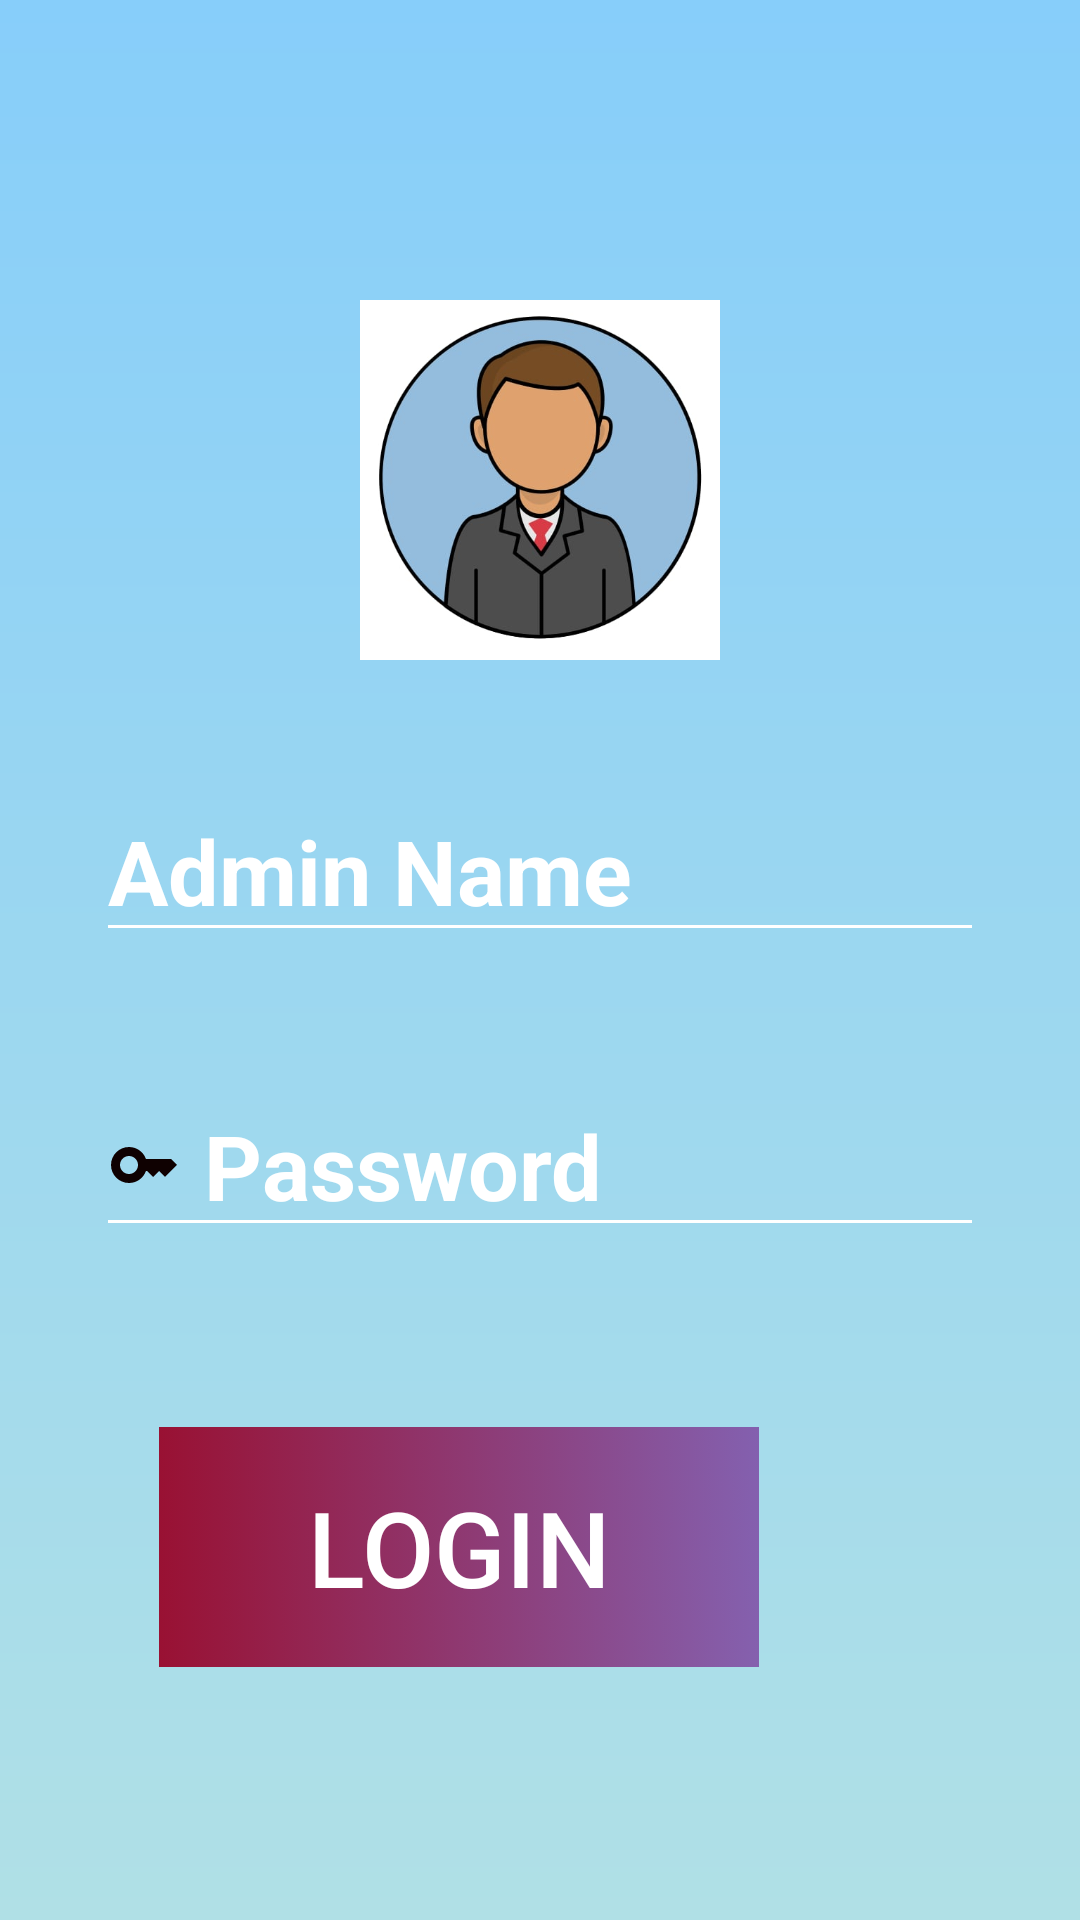

Where to tap for icons on this 1080*1920 app screen, as (x=x, y=y):
admin ava: (x=540, y=480)
